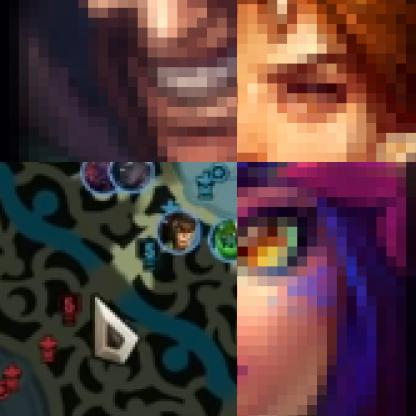Cassiopeia: (155, 208, 203, 256)
Draven: (0, 0, 236, 161)
Leona: (237, 0, 415, 161)
Neeko: (237, 162, 415, 415)
Senna: (109, 162, 156, 195)
Sion: (79, 162, 127, 196)
Zac: (207, 216, 236, 263)
